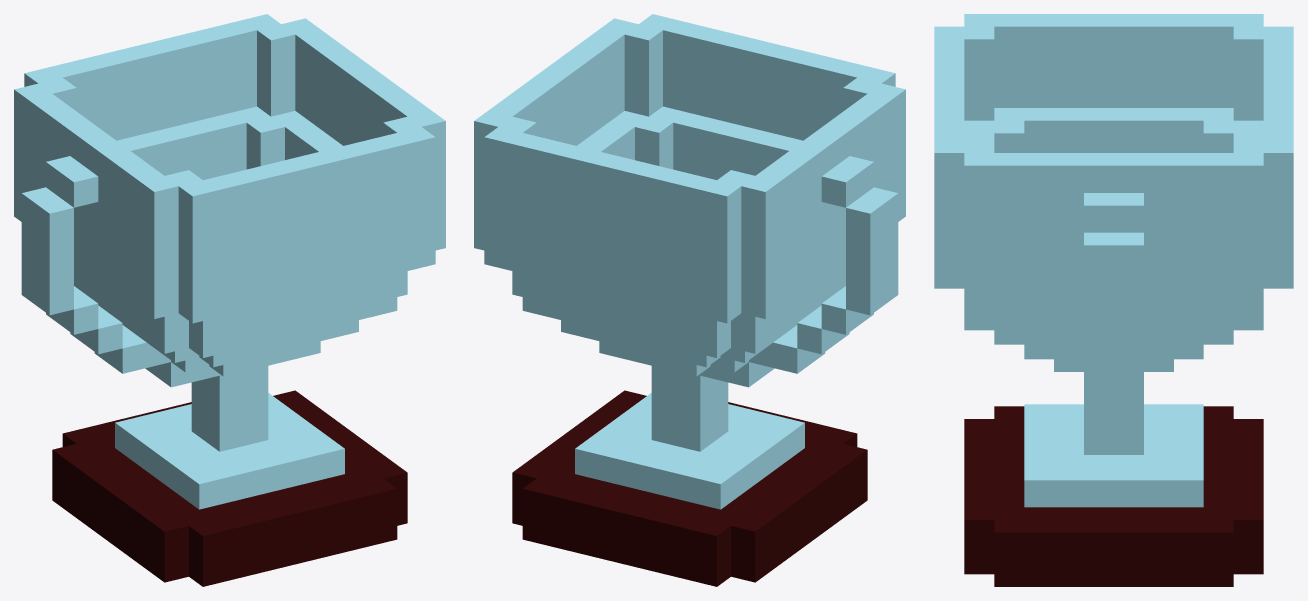
Rendered from Trophy-9.obj.
3 views of the same model, side by side, from view 1: azimuth 30°, elevation 25°; view 2: azimuth 150°, elevation 25°; view 3: azimuth 270°, elevation 25° (orthographic). The views are drawn at different scales.
Parts seen in each view (by area): view 1: Trophy-9; view 2: Trophy-9; view 3: Trophy-9.
Boxes of the visible parts, x1=… form: Trophy-9: x1=14, y1=14, x2=445, y2=586; Trophy-9: x1=474, y1=14, x2=905, y2=586; Trophy-9: x1=934, y1=14, x2=1293, y2=586.
Size of the model in its own units: 16 by 16 by 12.
Materials: 1 (1 with a texture image).
